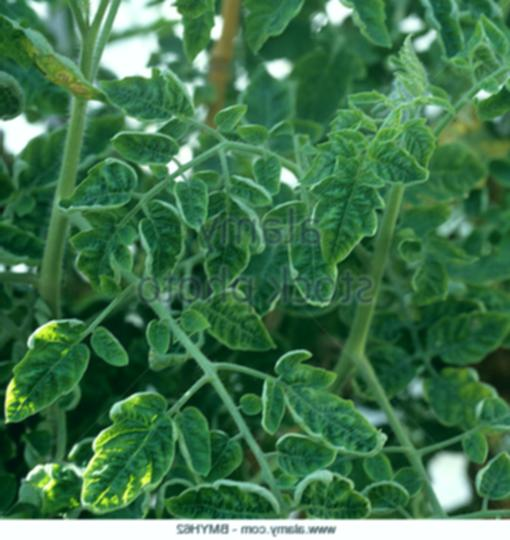Tomato leaf yellow virus: (49, 388, 179, 528), (247, 349, 384, 464), (0, 302, 93, 441), (302, 140, 382, 280), (274, 469, 417, 532), (194, 186, 267, 308), (281, 213, 339, 320), (36, 159, 142, 217), (130, 199, 190, 298), (194, 286, 279, 352), (157, 405, 226, 482), (359, 140, 427, 196), (157, 173, 215, 233), (98, 127, 172, 167)
